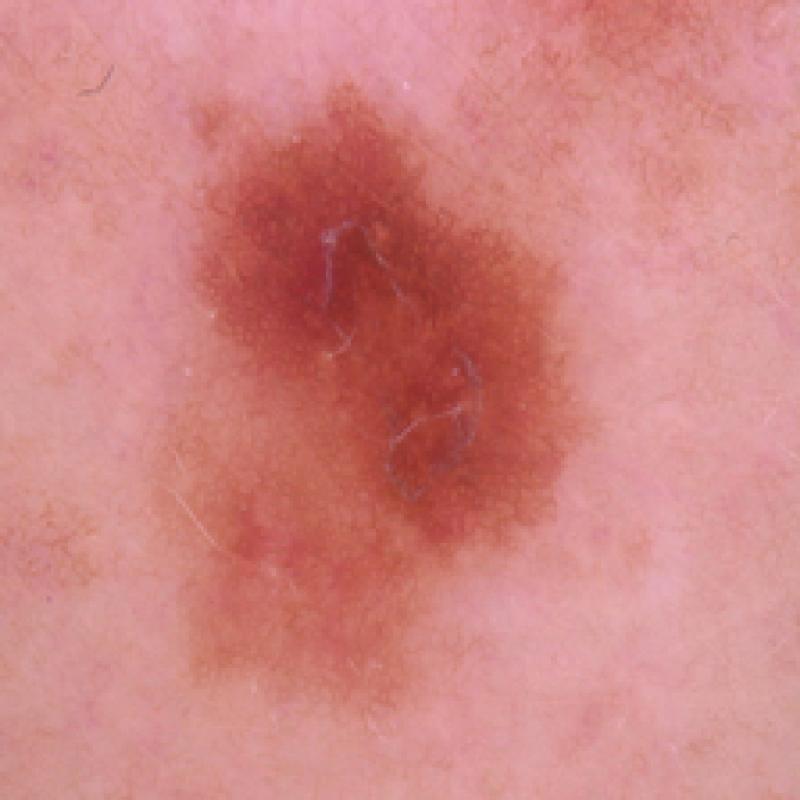benign: (134, 62, 634, 743)
